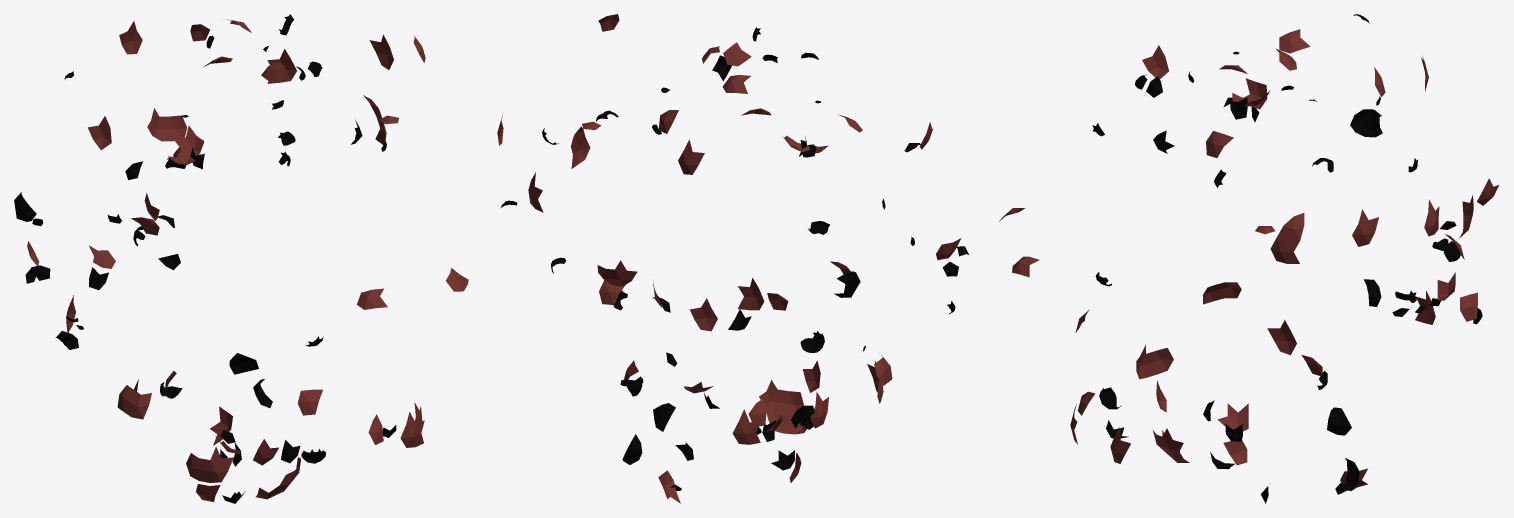
Rendered from explode.f0015.glb.
3 views of the same model, side by side, from view 1: azimuth 30°, elevation 25°; view 2: azimuth 150°, elevation 25°; view 3: azimuth 270°, elevation 25° (orthographic). The views are drawn at different scales.
Parts seen in each view (by area): view 1: Body.001; view 2: Body.001; view 3: Body.001.
Boxes of the visible parts, x1=… form: Body.001: x1=14, y1=14, x2=468, y2=503; Body.001: x1=497, y1=14, x2=968, y2=503; Body.001: x1=999, y1=14, x2=1498, y2=503.
Size of the model in its own units: 11.71 by 12.06 by 12.01.
Materials: 1 (1 with a texture image).
